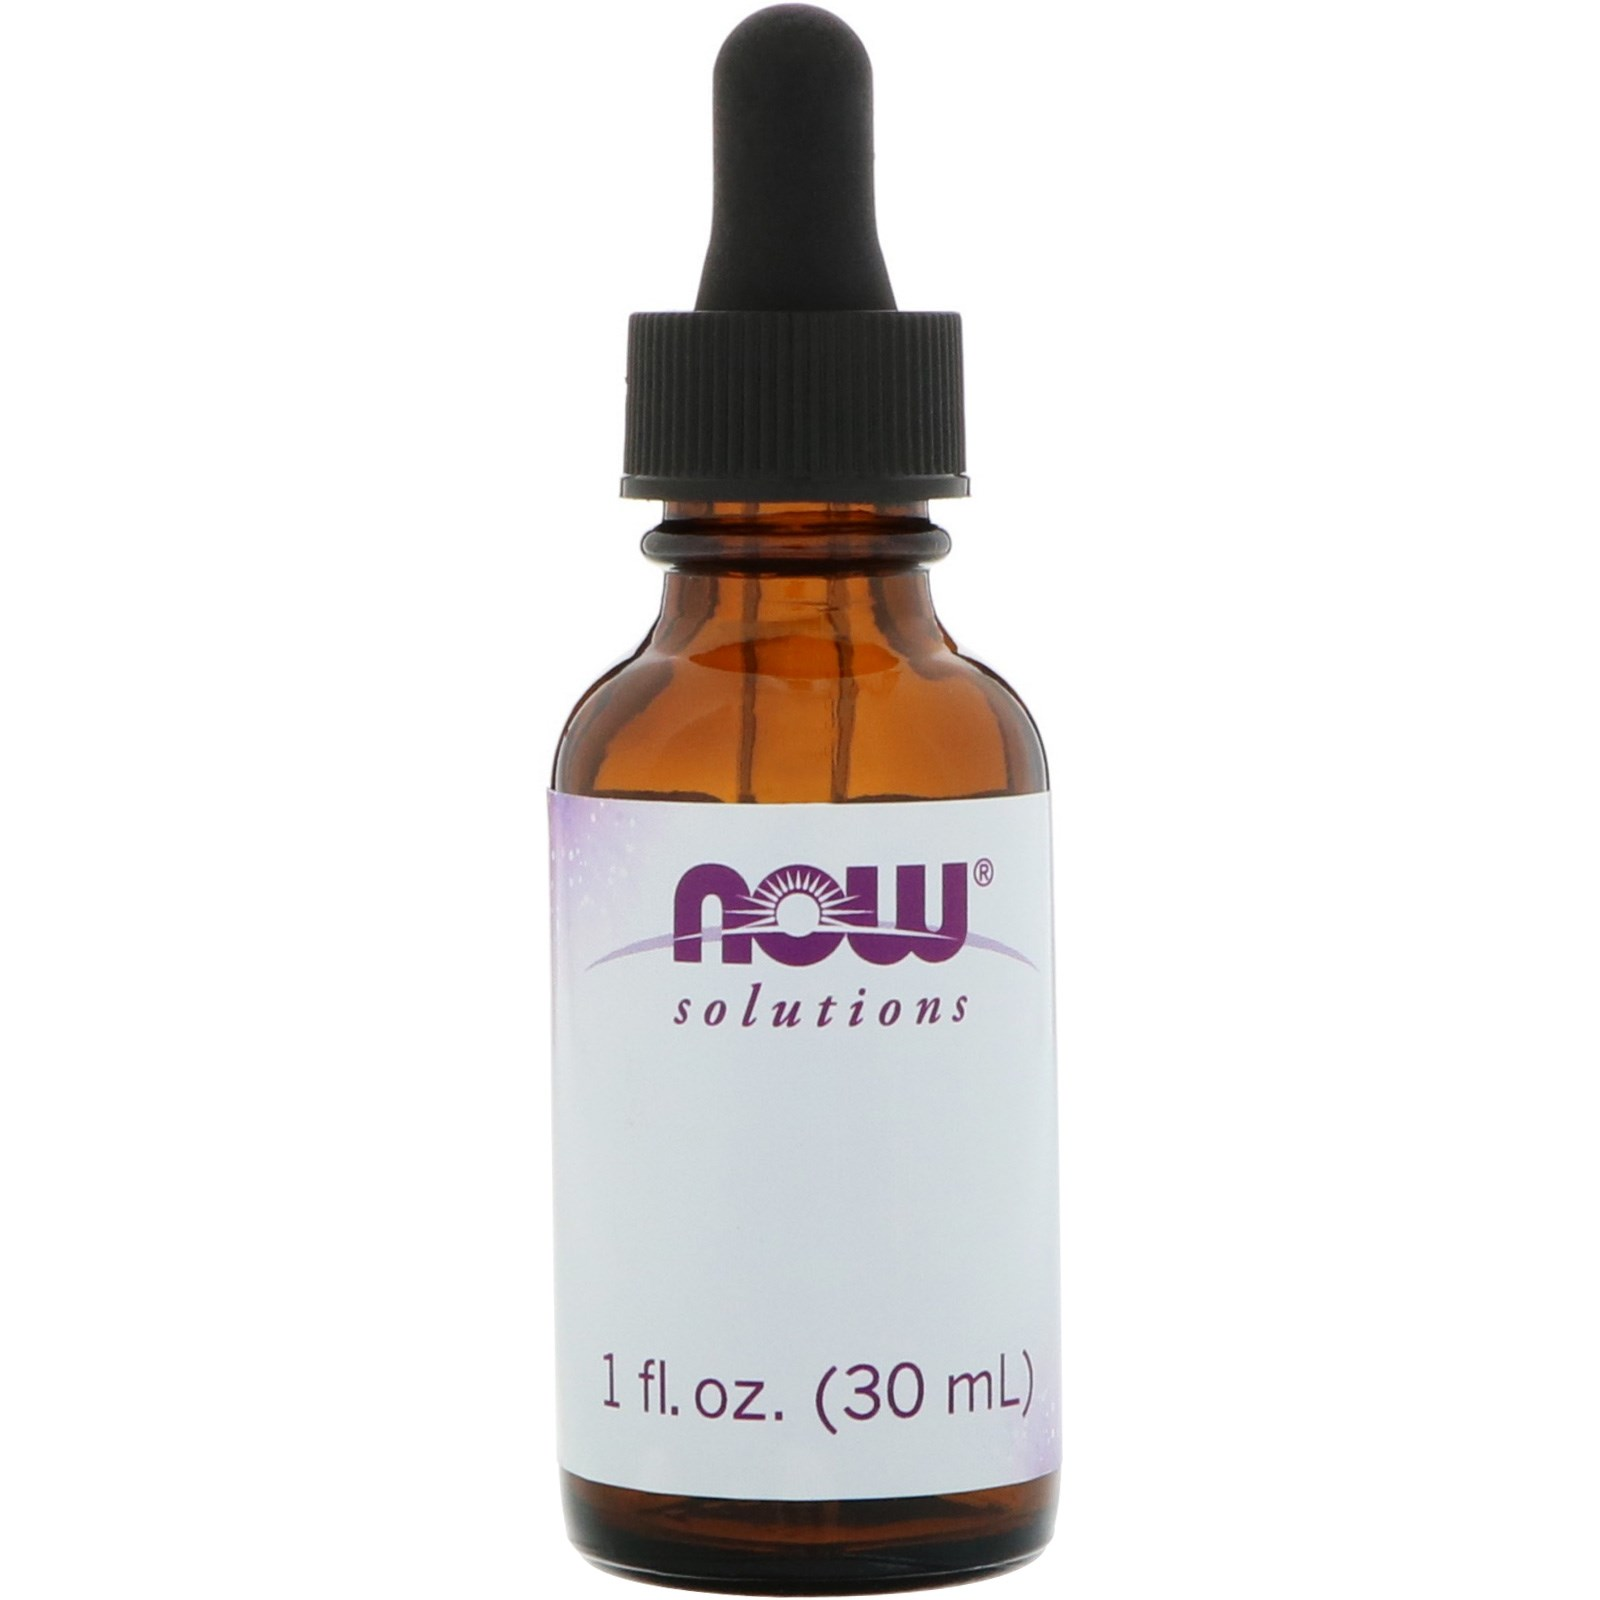emptybottle: (548, 3, 1064, 1600)
